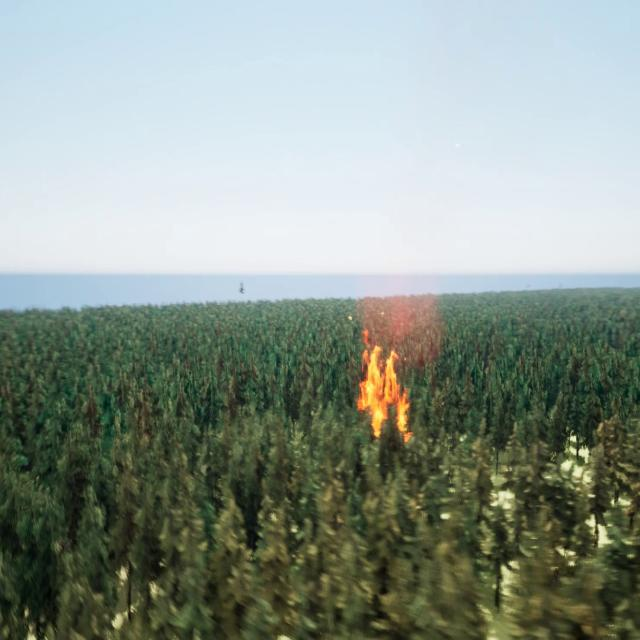fire: (358, 343, 413, 435)
smoke: (358, 287, 441, 370)
